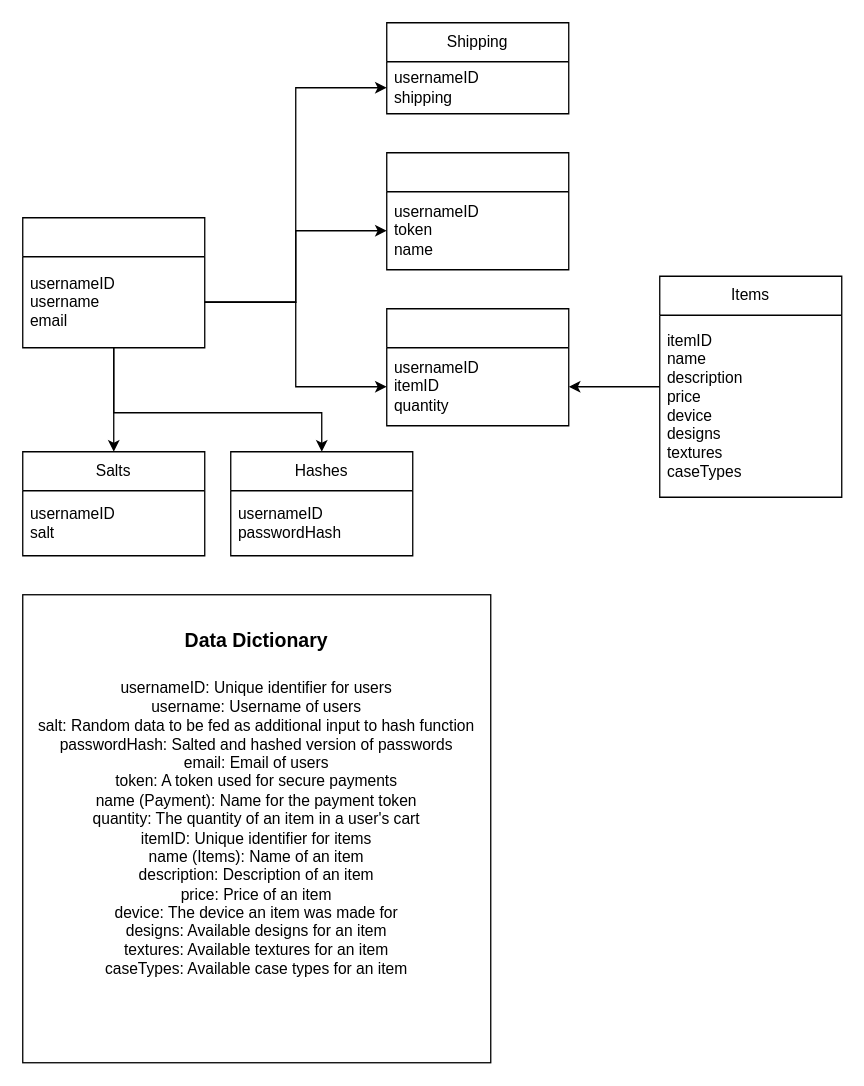
Some shapes in this 864 by 1086 pixel diagram are drawn without their labels. The shapes that lost their labels are listed below. From the top down, each one's box as (x1, y1, x2, y2) in pixels, then its label:
(385, 151, 569, 270): Payment
(21, 216, 205, 348): Users
(385, 307, 569, 426): Cart
